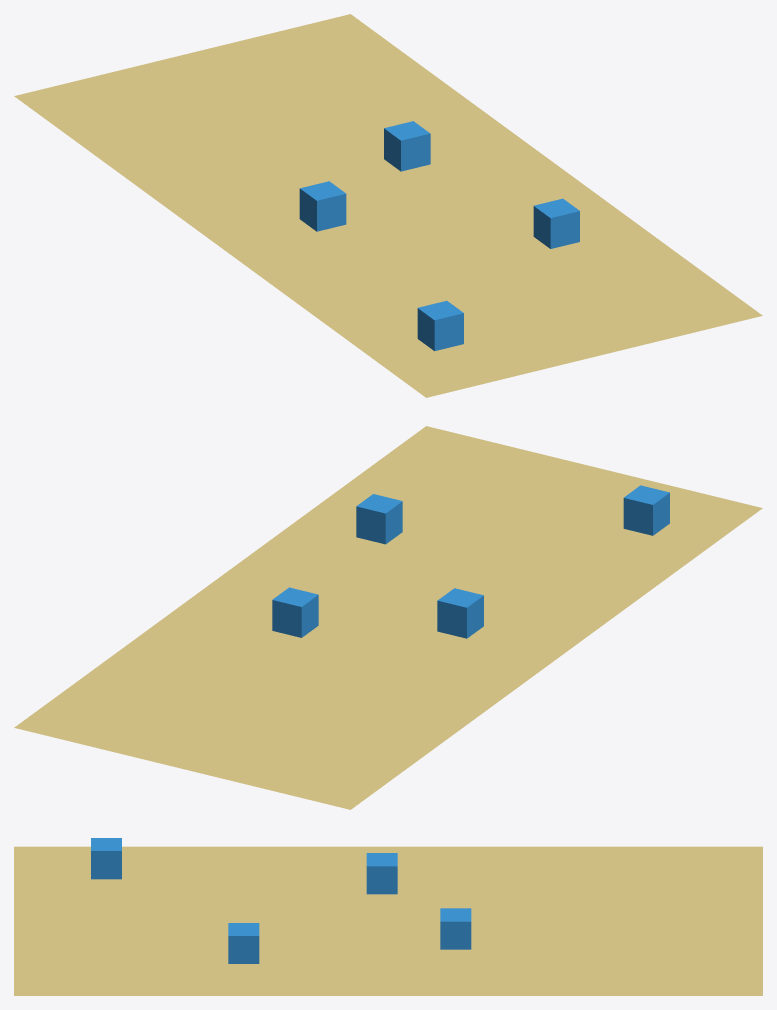
Rendered from camera-followpath.glb.
3 renders of one model, top to bottom at view 1: azimuth 30°, elevation 25°; view 2: azimuth 150°, elevation 25°; view 3: azimuth 270°, elevation 25°, orthographic. The views are drawn at different scales.
Parts seen in each view (by area): view 1: Plane, Cube.001, Cube.003, Cube, Cube.002; view 2: Plane, Cube.001, Cube.002, Cube, Cube.003; view 3: Plane, Cube, Cube.001, Cube.002, Cube.003.
Boxes of the visible parts, box(x1,y1,x2,y2) form: Plane: box(14, 14, 762, 397); Cube.001: box(299, 181, 346, 231); Cube.003: box(417, 300, 463, 351); Cube: box(384, 121, 430, 171); Cube.002: box(533, 198, 579, 248); Plane: box(14, 426, 762, 809); Cube.001: box(437, 588, 483, 638); Cube.002: box(356, 494, 402, 544); Cube: box(272, 587, 318, 637); Cube.003: box(623, 485, 669, 535); Plane: box(14, 846, 762, 995); Cube: box(440, 908, 471, 949); Cube.001: box(366, 853, 397, 894); Cube.002: box(228, 923, 259, 963); Cube.003: box(91, 838, 121, 879).
Bounding box in the file's own units: 22.8 × 2.22 × 48.36.
